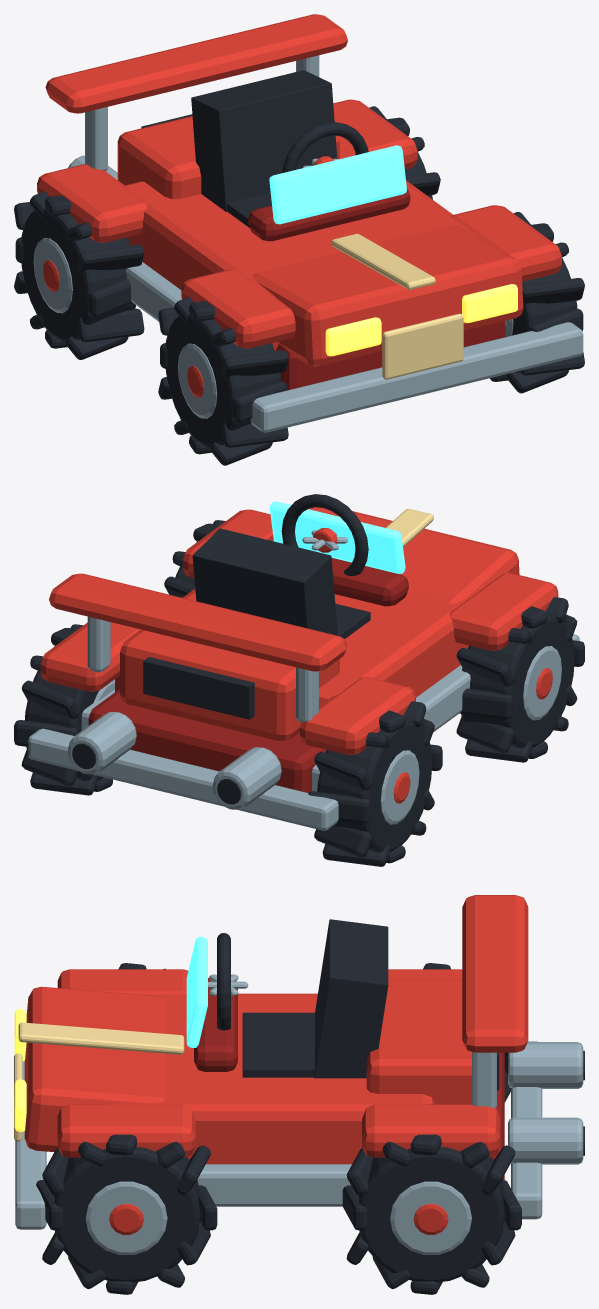
Rendered from kart_chassis.glb.
3 views of the same model, one above another, from view 1: azimuth 30°, elevation 25°; view 2: azimuth 150°, elevation 25°; view 3: azimuth 270°, elevation 25° (orthographic). The views are drawn at different scales.
Visible parts, largest first — view 1: KartBody_KartPaint, KartBody_KartMetal, WheelRL, KartBody_KartRubber, WheelFL, KartBody_KartGlass, KartBody_KartCream, KartBody_KartPaintDark, WheelFR, KartBody_KartLight, SteeringWheel, WheelRR; view 2: KartBody_KartPaint, KartBody_KartMetal, KartBody_KartRubber, WheelFL, WheelRL, KartBody_KartPaintDark, WheelRR, KartBody_KartGlass, SteeringWheel, WheelFR, KartBody_KartCream; view 3: KartBody_KartPaint, WheelRR, WheelFR, KartBody_KartMetal, KartBody_KartRubber, KartBody_KartCream, KartBody_KartPaintDark, KartBody_KartGlass, SteeringWheel, KartBody_KartLight.
Part boxes in pixels (x1,y1,x2,y2): KartBody_KartPaint: (37,14,561,366); KartBody_KartMetal: (68,55,583,432); WheelRL: (14,191,144,359); KartBody_KartRubber: (141,70,337,227); WheelFL: (158,296,288,465); KartBody_KartGlass: (269,145,406,224); KartBody_KartCream: (331,233,463,379); KartBody_KartPaintDark: (248,187,505,390); WheelFR: (490,212,584,393); KartBody_KartLight: (325,284,517,356); SteeringWheel: (282,122,368,172); WheelRR: (369,106,440,199); KartBody_KartPaint: (40,507,558,754); KartBody_KartMetal: (28,616,579,830); KartBody_KartRubber: (72,528,370,804); WheelFL: (456,597,584,762); WheelRL: (308,701,442,866); KartBody_KartPaintDark: (88,558,408,792); WheelRR: (14,624,114,795); KartBody_KartGlass: (269,501,405,573); SteeringWheel: (281,494,368,575); WheelFR: (164,520,225,597); KartBody_KartCream: (385,508,433,547); KartBody_KartPaint: (24,895,528,1164); WheelRR: (342,1134,521,1294); WheelFR: (36,1134,217,1294); KartBody_KartMetal: (15,1041,583,1229); KartBody_KartRubber: (242,919,584,1155); KartBody_KartCream: (14,1022,184,1141); KartBody_KartPaintDark: (194,978,504,1179); KartBody_KartGlass: (186,936,207,1047); SteeringWheel: (208,933,248,1030); KartBody_KartLight: (14,1009,26,1131).
Size of the model in its own units: 2.76 by 1.88 by 3.64.
